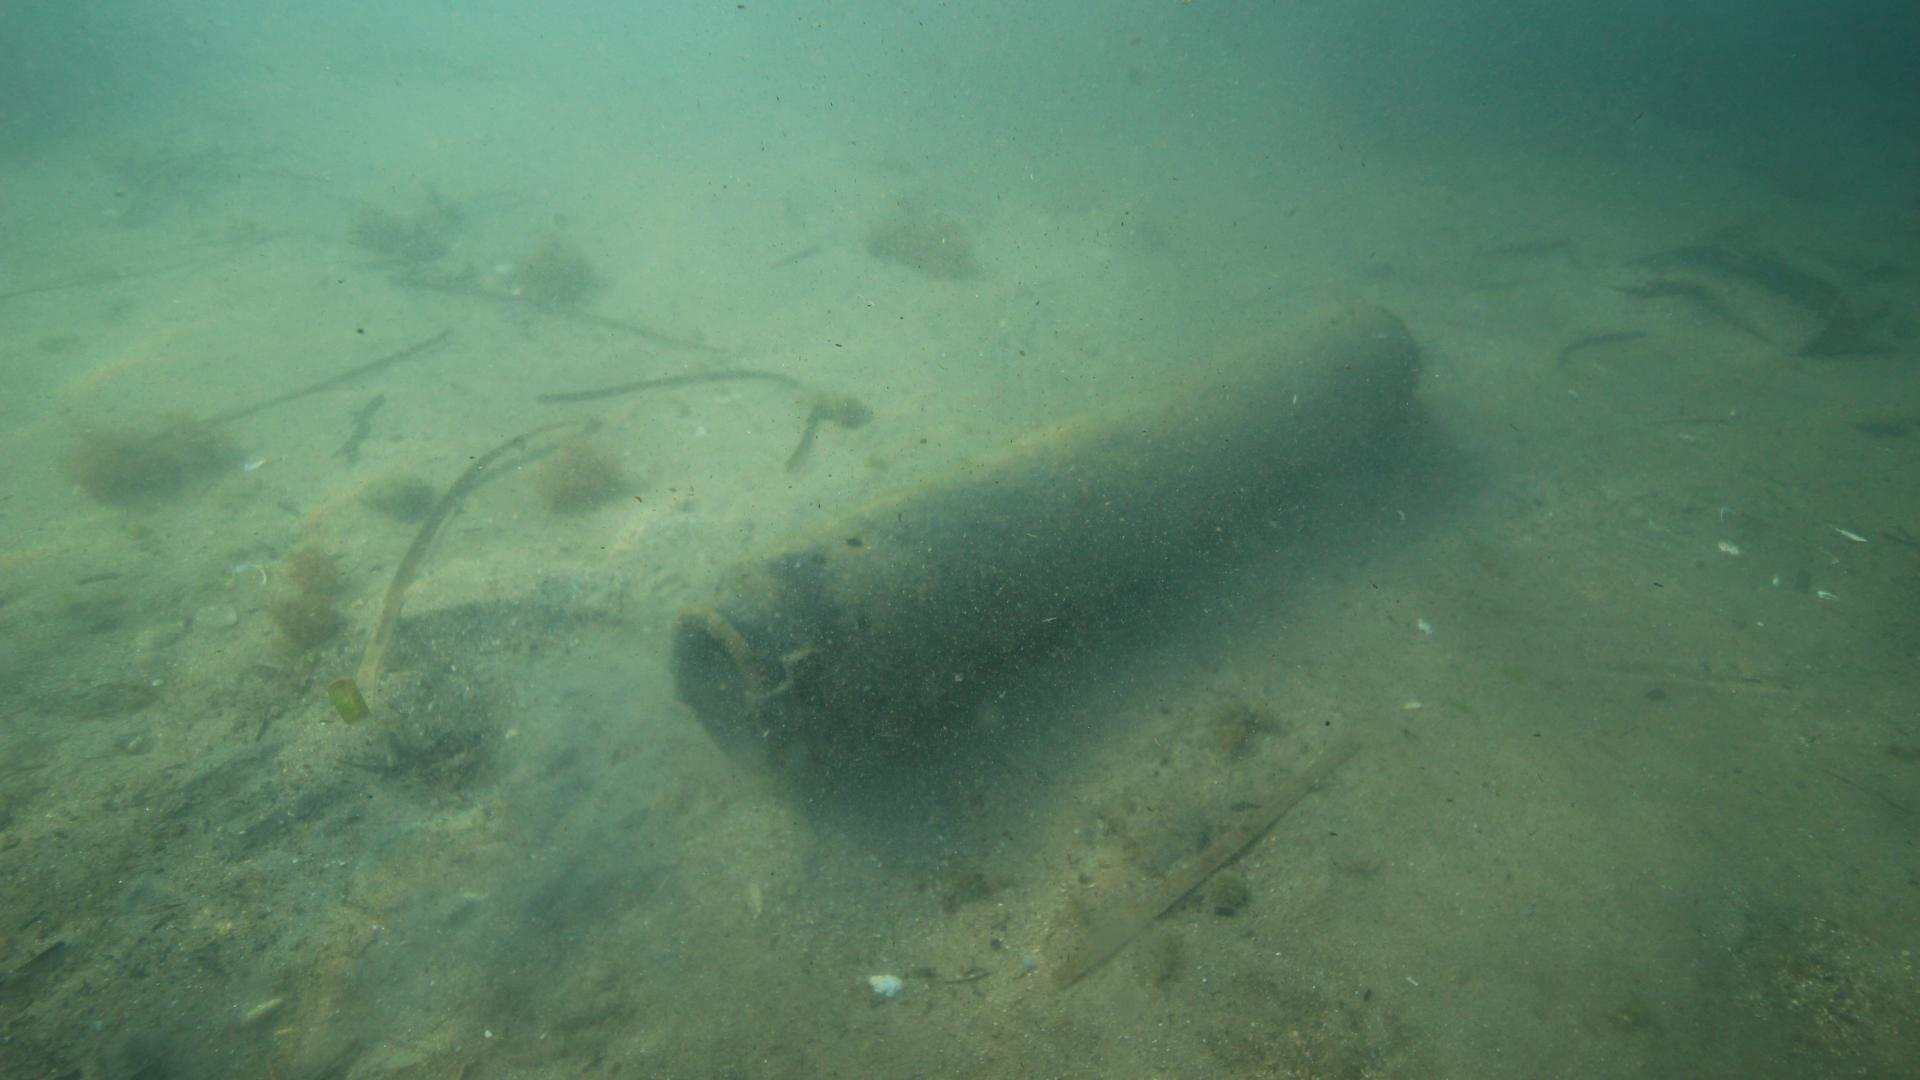eel fish trap: (663, 301, 1429, 771)
